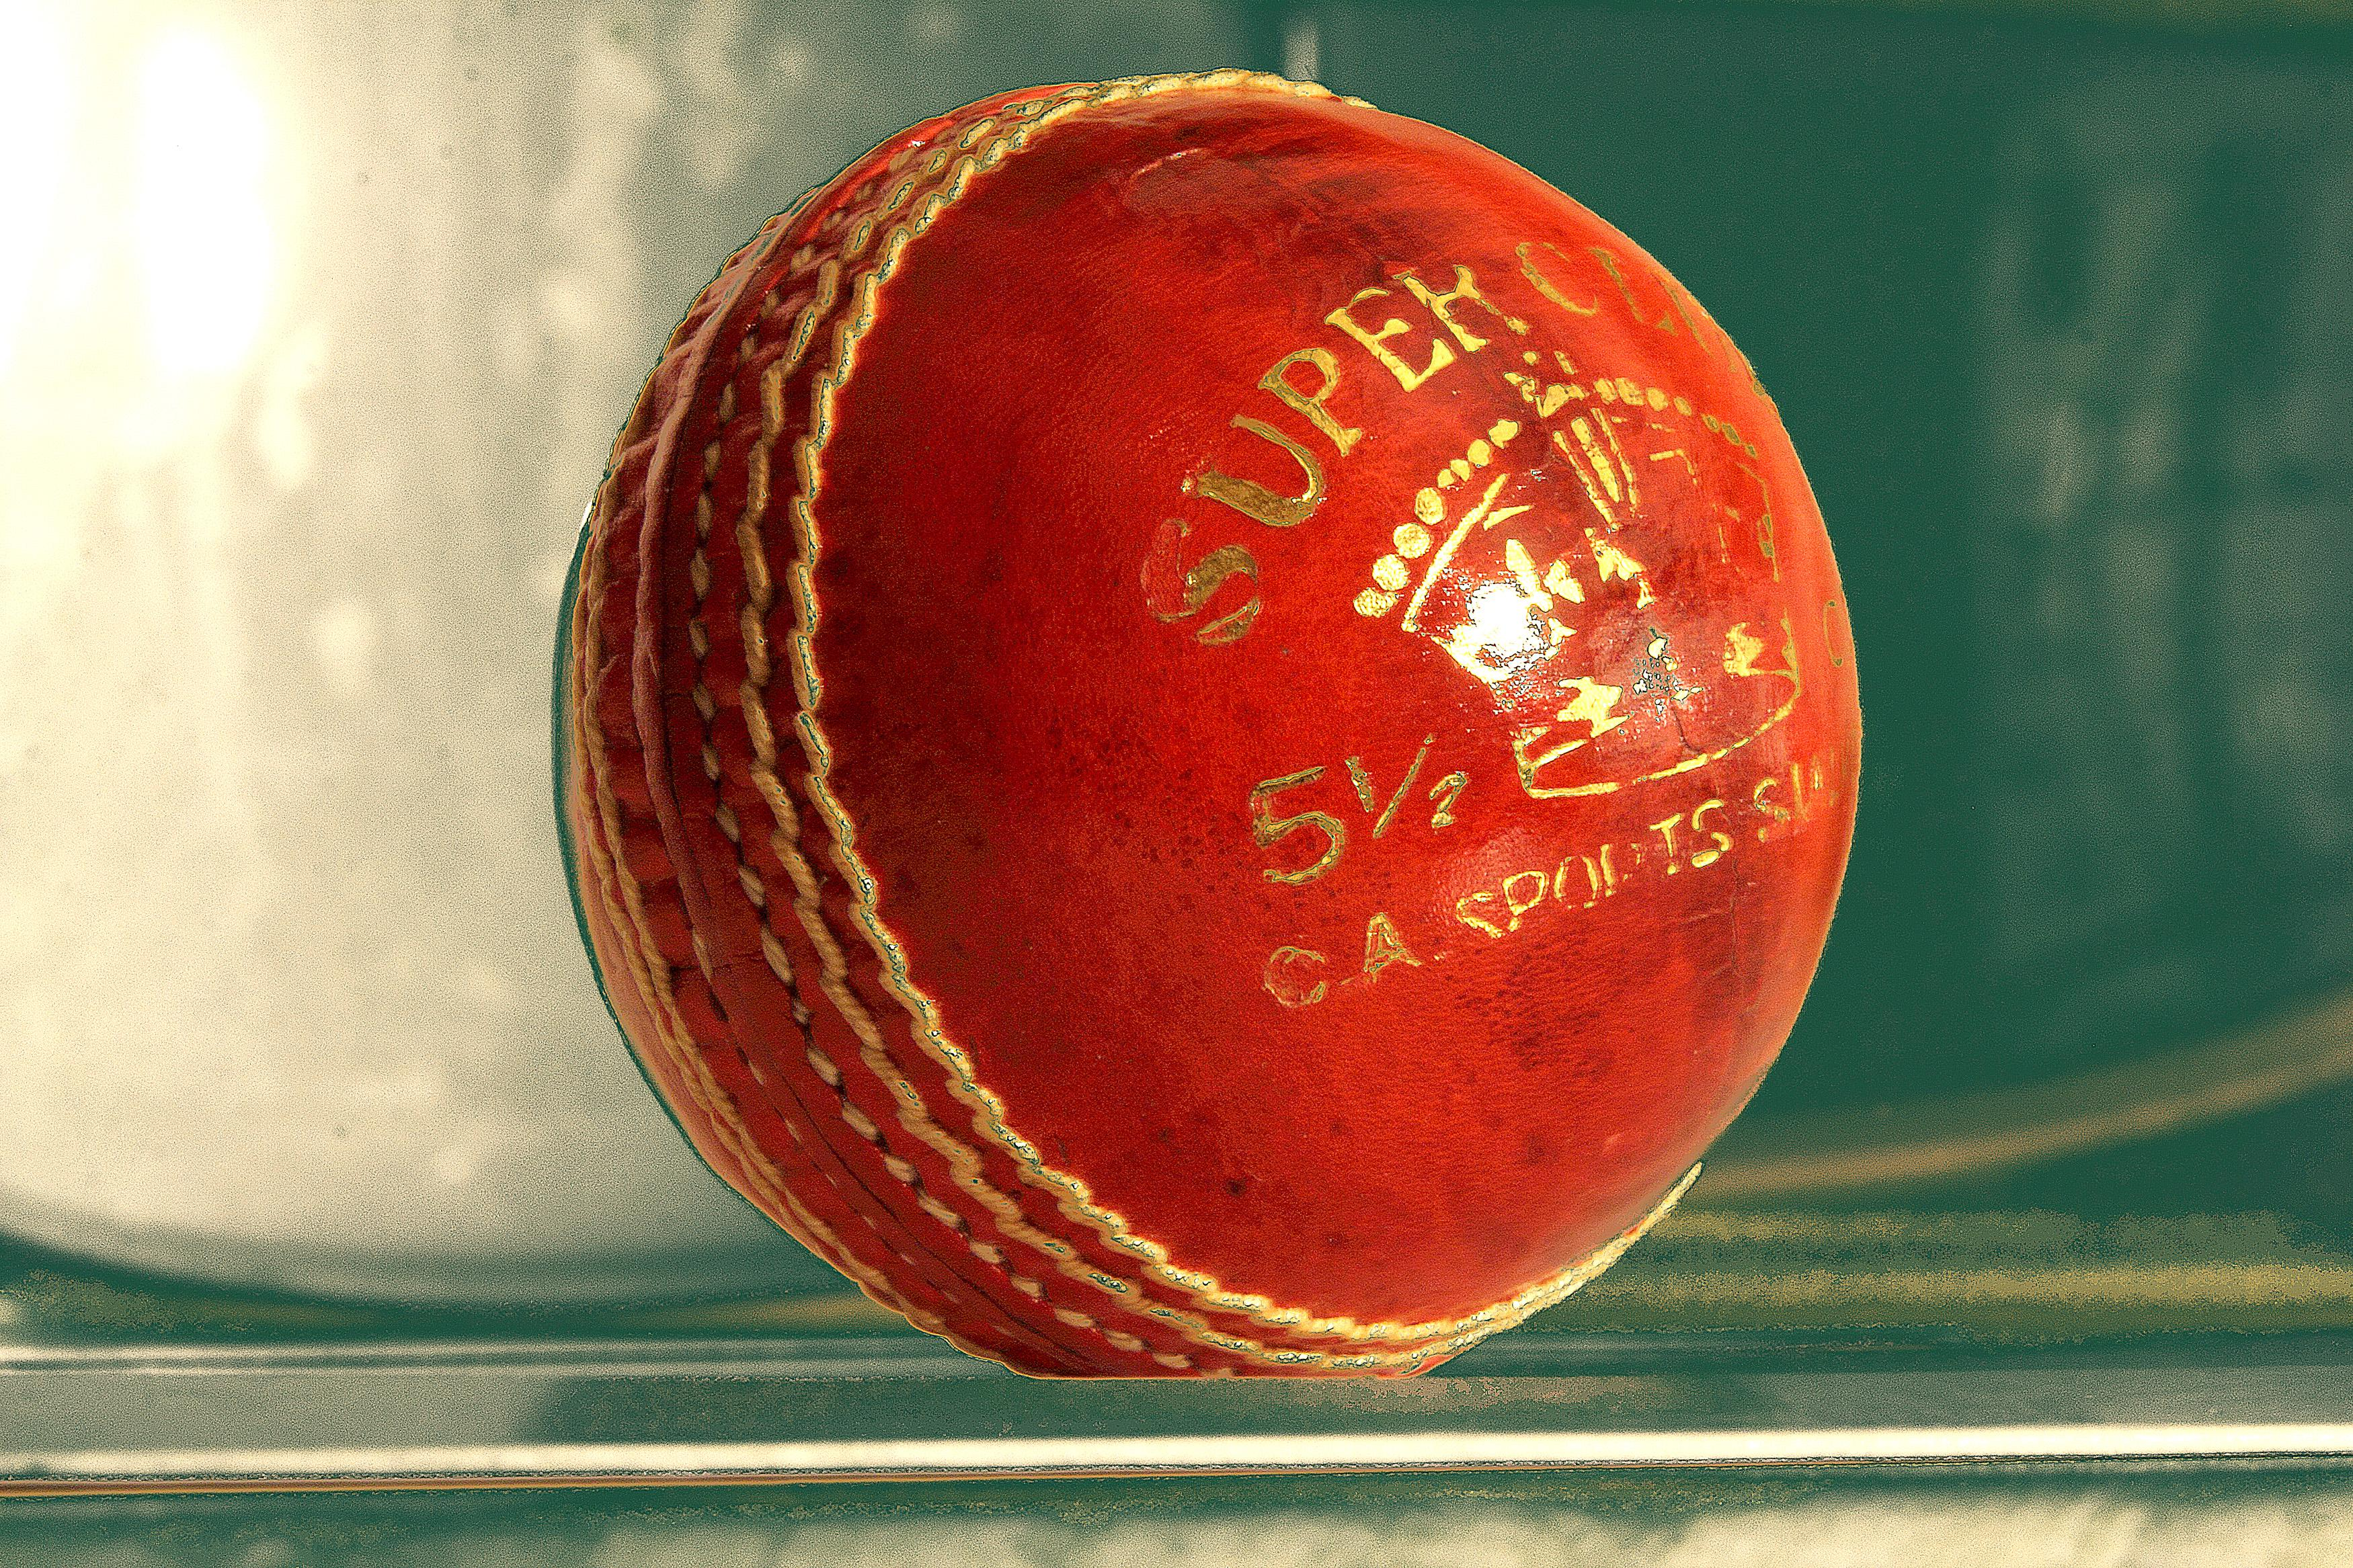Red_Ball: (495, 66, 1975, 1388)
